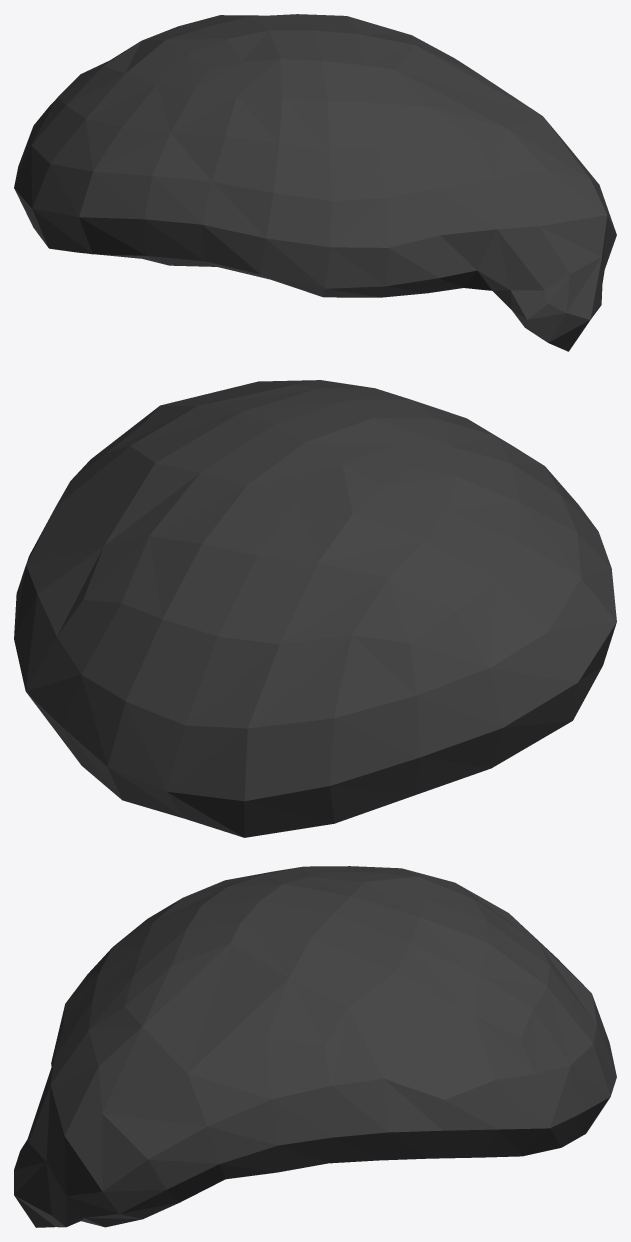
Rendered from RFL_humerus2.glb.
3 renders of one model, top to bottom at view 1: azimuth 30°, elevation 25°; view 2: azimuth 150°, elevation 25°; view 3: azimuth 270°, elevation 25°, orthographic. The views are drawn at different scales.
Visible parts, largest first — view 1: RFL_humerus2; view 2: RFL_humerus2; view 3: RFL_humerus2.
Boxes of the visible parts, x1,y1,x2,y2 form: RFL_humerus2: [14, 14, 616, 351]; RFL_humerus2: [14, 380, 616, 837]; RFL_humerus2: [14, 866, 616, 1227].
Size of the model in its own units: 12.02 by 6.16 by 13.07.
1 material, 1 textured.
